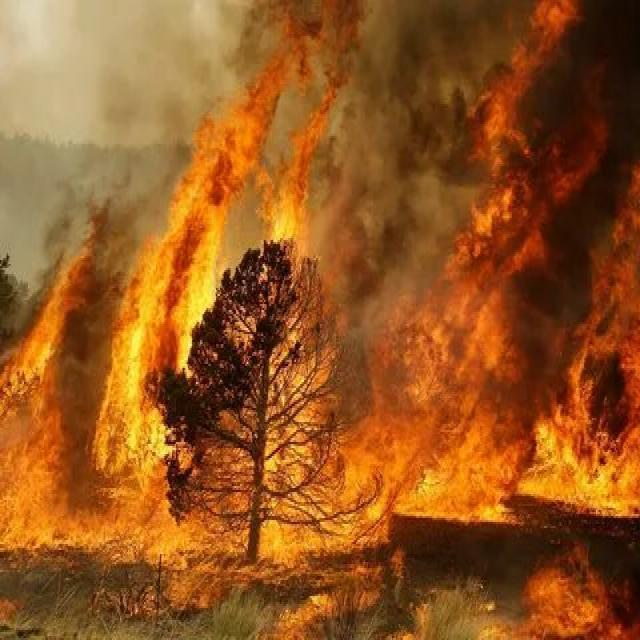Fire: (0, 123, 385, 611), (384, 374, 640, 598)
